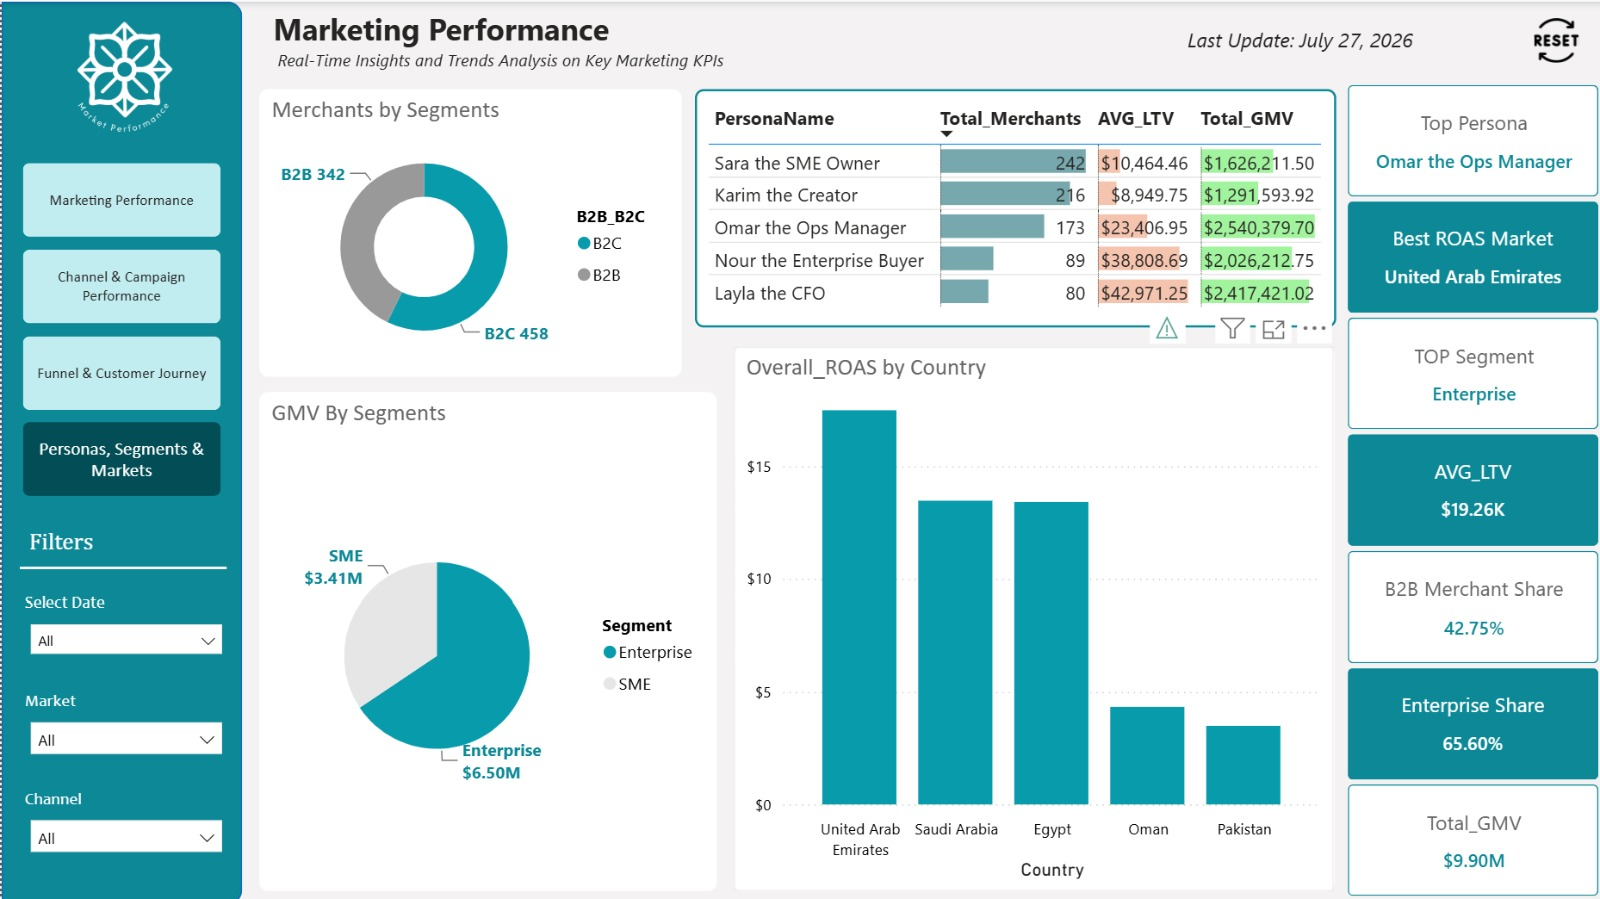

What the dashboard file says about the page in this screenshot:
{"tool":"powerbi","page":{"name":"Personas, Segments & Markets","canvas":[1280,720],"ordinal":3},"visuals":[{"type":"shape","box":[0,0,192,720],"z":0,"group":"g2"},{"type":"textbox","box":[211.4,0,399.1,69.6],"z":0},{"type":"textbox","box":[937.4,14.4,203.5,34.1],"z":1000},{"type":"actionButton","box":[1210.5,0,63,61.7],"z":2000},{"type":"group","id":"g1","title":"Group 6","box":[0,0,192,720],"z":3000},{"type":"cardVisual","fields":{"Data":["AA_Measures.Top_Persona","AA_Measures.Best_ROAS_Market","AA_Measures.TOP_Segment","AA_Measures.AVG_Merchant_LTV","AA_Measures.B2B_Merchant_Share","AA_Measures.Enterprise_GMV","AA_Measures.Total_GMV"]},"box":[1070,61.7,210.1,657.7],"z":4000},{"type":"tableEx","fields":{"Values":["Personas.PersonaName","AA_Measures.Total_Merchants","AA_Measures.AVG_LTV","AA_Measures.Total_GMV"]},"box":[554,69.6,512,190.4],"z":5000},{"type":"pieChart","title":"GMV By Segments","fields":{"Category":["Merchants.Segment"],"Y":["AA_Measures.Total_GMV"]},"box":[206.1,311.1,365,397.8],"z":6000},{"type":"slicer","title":"Select Date","fields":{"Values":["Calendar.Date.Variation.Date Hierarchy.Year","Calendar.Date.Variation.Date Hierarchy.Month"]},"box":[7.9,466.1,177.2,65.6],"z":6500,"group":"g2"},{"type":"clusteredColumnChart","fields":{"Category":["Markets.Country"],"Y":["AA_Measures.Overall_ROAS"]},"box":[584.2,275.7,479.2,434.6],"z":7000},{"type":"slicer","title":"Market","fields":{"Values":["Markets.Country"]},"box":[7.9,543.5,177.2,65.6],"z":7000,"group":"g2"},{"type":"group","id":"g2","title":"Group 5","box":[0,0,192,720],"z":7500,"group":"g1"},{"type":"slicer","title":"Channel","fields":{"Values":["ChannelDim.Channel"]},"box":[7.9,622.3,177.2,65.6],"z":7500,"group":"g2"},{"type":"donutChart","title":"Merchants by Segments","fields":{"Category":["Merchants.B2B_B2C"],"Y":["Count(Merchants.MerchantID)"]},"box":[206.1,69.6,337.4,229.8],"z":8000},{"type":"textbox","box":[17.1,416.2,116.8,36.8],"z":8000,"group":"g2"},{"type":"shape","box":[14.4,449,165.4,6.6],"z":8500,"group":"g2"},{"type":"image","box":[39.4,15.8,114.2,90.6],"z":9000,"group":"g2"},{"type":"pageNavigator","box":[17.1,128.7,158.9,269.1],"z":12000,"group":"g1"}]}

Visuals, with their boxes in screenshot pixels (x1, y1, x2, y2), scaled from the page's 1280x720 canvas onto the 1600x899 screenshot:
shape: 0 0 240 898
textbox: 264 0 763 87
textbox: 1172 18 1426 61
actionButton: 1513 0 1592 77
"Group 6" group: 0 0 240 898
cardVisual - AA_Measures.Top_Persona x AA_Measures.Best_ROAS_Market: 1338 77 1599 898
tableEx - Personas.PersonaName x AA_Measures.Total_Merchants: 692 87 1332 325
"GMV By Segments" pieChart: 258 388 714 885
"Select Date" slicer: 10 582 231 664
clusteredColumnChart - Markets.Country x AA_Measures.Overall_ROAS: 730 344 1329 887
"Market" slicer: 10 679 231 761
"Group 5" group: 0 0 240 898
"Channel" slicer: 10 777 231 859
"Merchants by Segments" donutChart: 258 87 679 374
textbox: 21 520 167 566
shape: 18 561 225 569
image: 49 20 192 133
pageNavigator: 21 161 220 497
